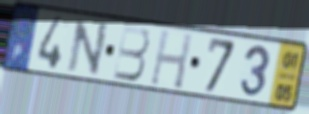3: (238, 43, 274, 100)
4: (35, 14, 65, 71)
7: (205, 35, 237, 95)
B: (111, 24, 151, 83)
H: (148, 28, 195, 92)
N: (65, 18, 111, 78)
